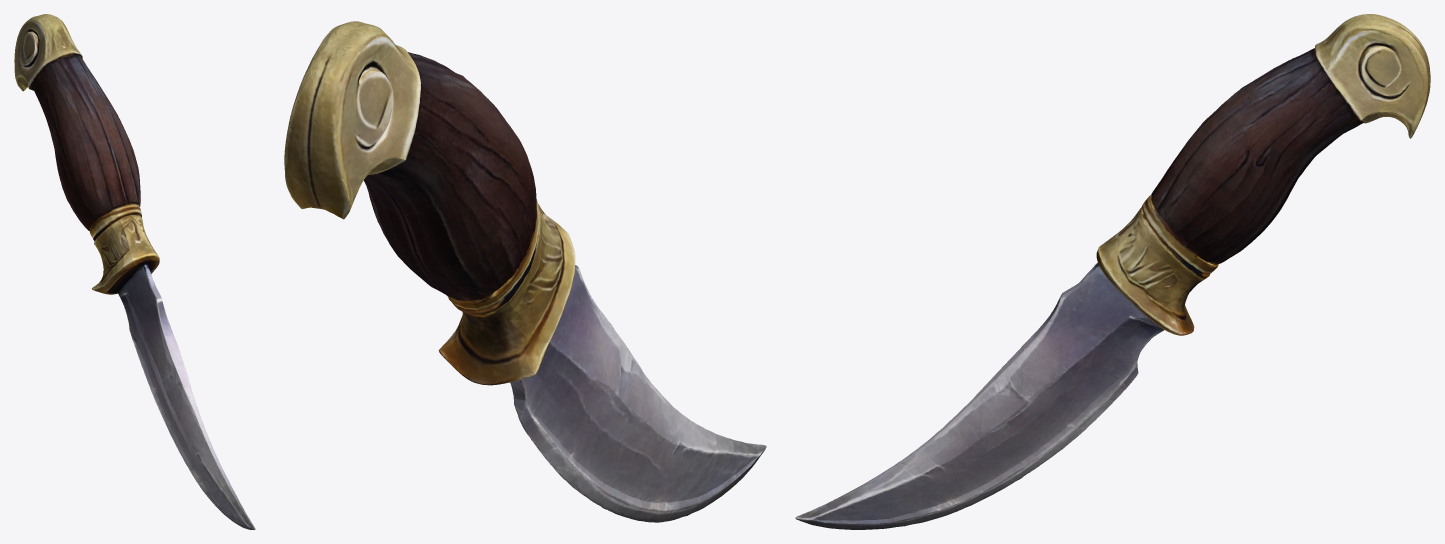
File: knife.glb
The picture shows the model from 3 angles, left to right: view 1: azimuth 30°, elevation 25°; view 2: azimuth 150°, elevation 25°; view 3: azimuth 270°, elevation 25°; orthographic projection. The views are drawn at different scales.
Size of the model in its own units: 0.1627 by 0.8902 by 1.
Materials: 1 (1 with a texture image).
